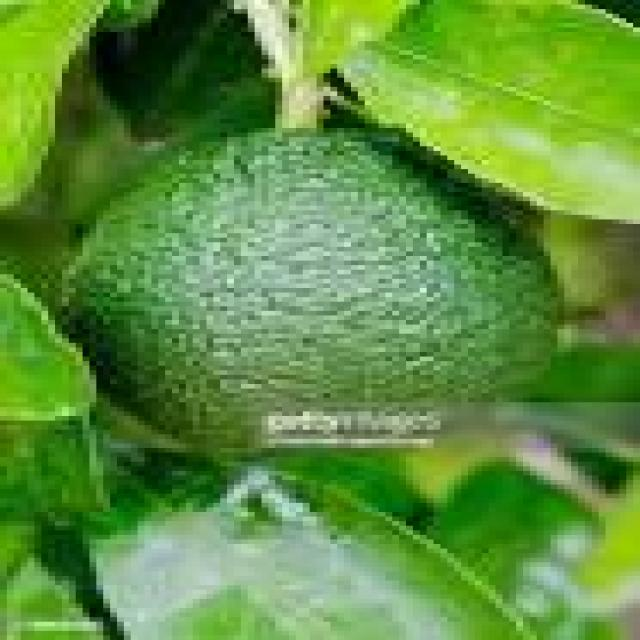orange: (69, 128, 551, 448)
